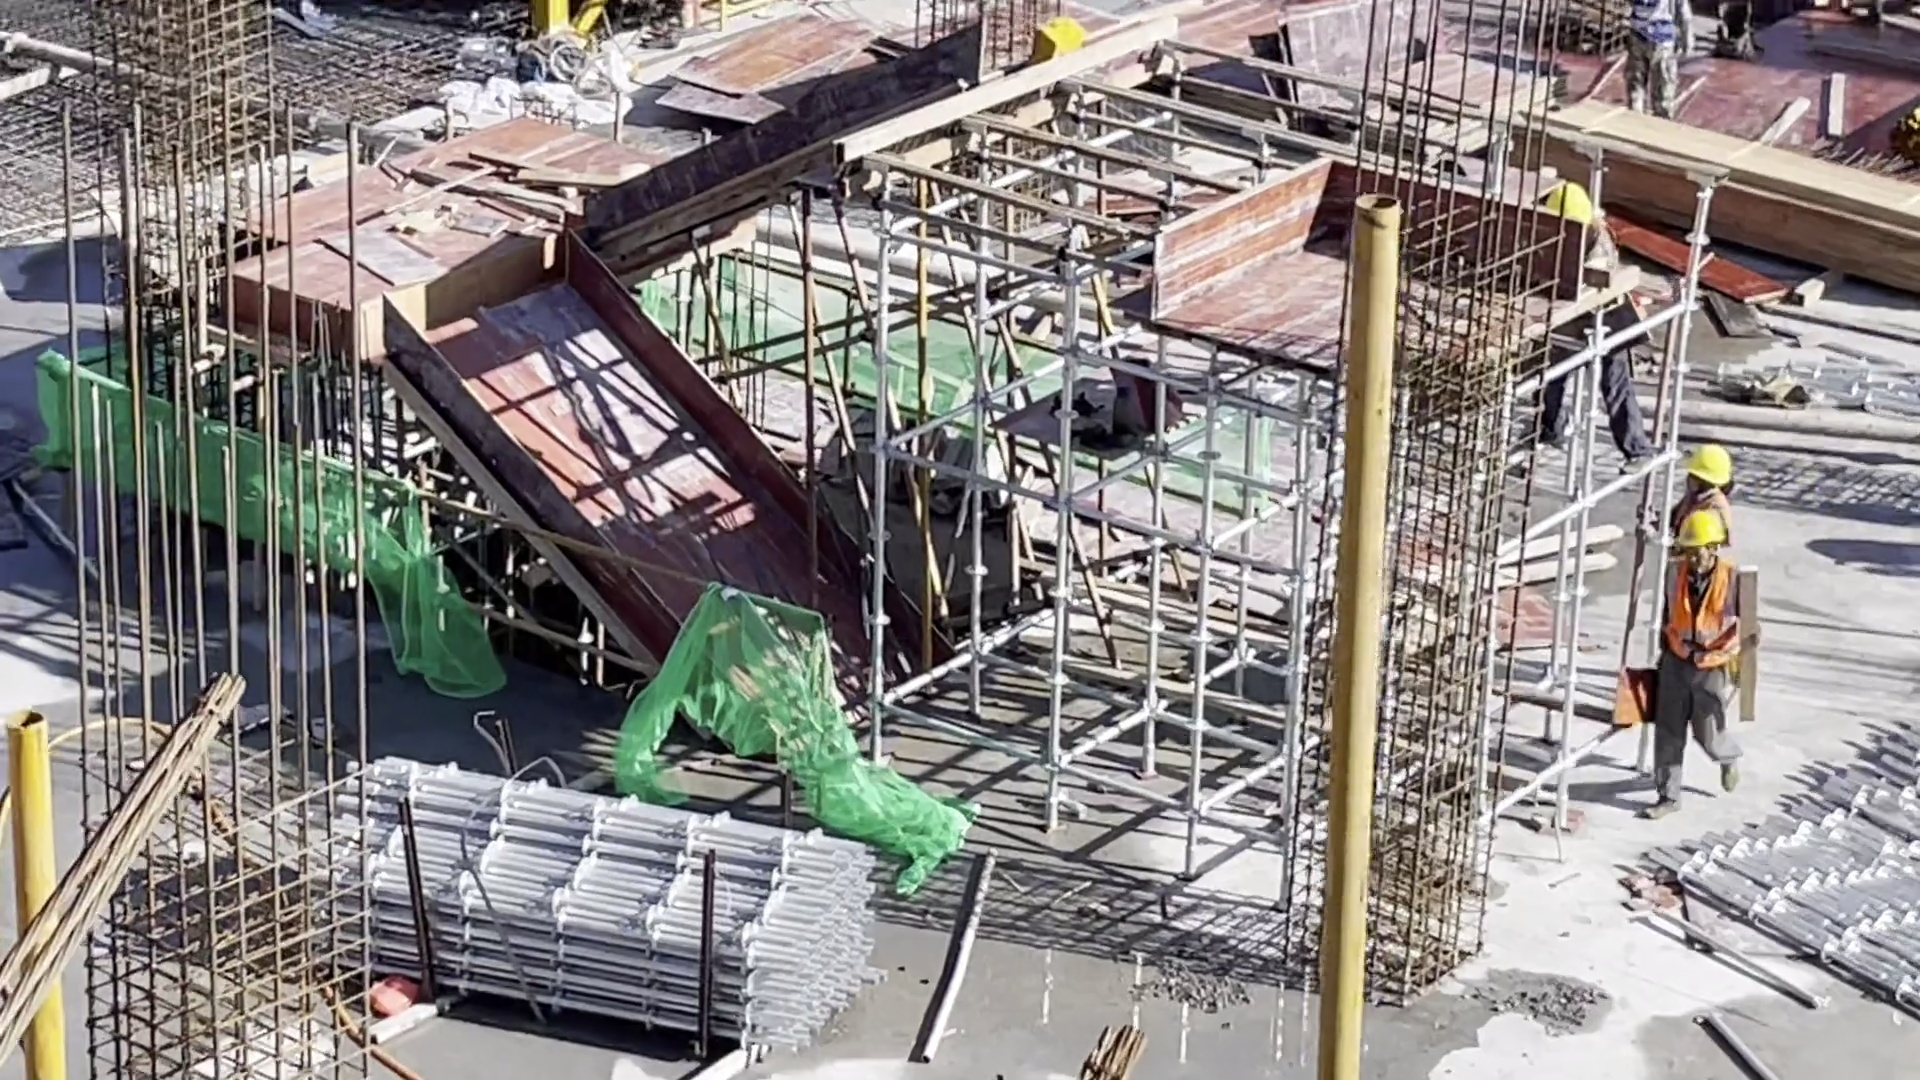helmet: (1544, 182, 1591, 223), (1695, 446, 1739, 482), (1683, 512, 1728, 545)
person: (1543, 187, 1654, 475), (1663, 512, 1744, 823), (1651, 461, 1749, 552), (1622, 1, 1696, 116)
scaffold: (318, 755, 888, 1044), (1626, 722, 1920, 1020)
vest: (1673, 566, 1740, 665)
wood: (1510, 94, 1920, 295)
